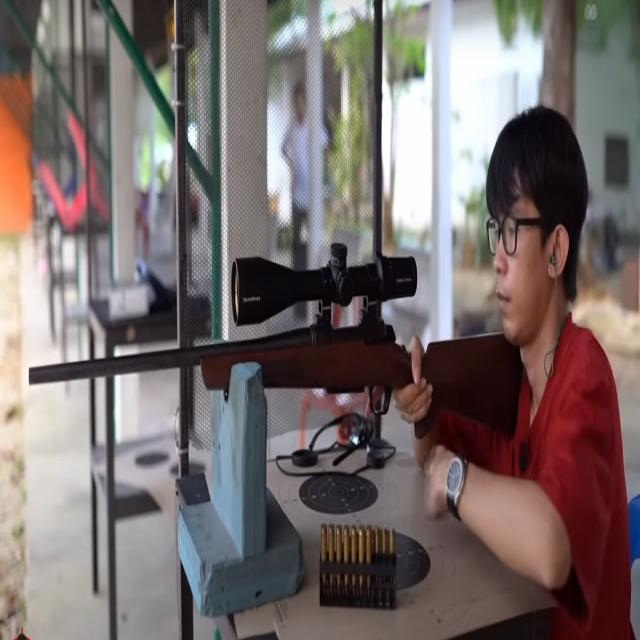rifle: (24, 224, 523, 474)
